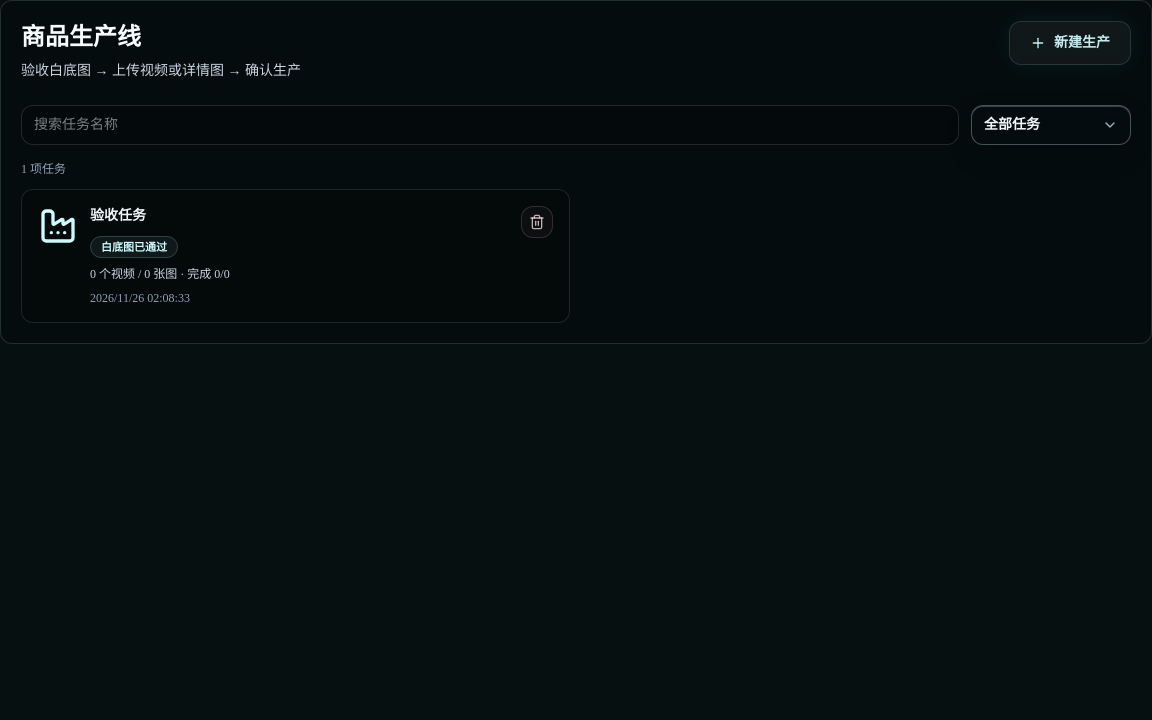
Test: production page interaction regression (simulated network only) › uses the shared confirmation dialog for task deletion instead of window.confirm
Later steps or results of the test are not shown.
Click the button named "删除任务 验收任务".
click(537, 222)  # box [521,206,553,238]
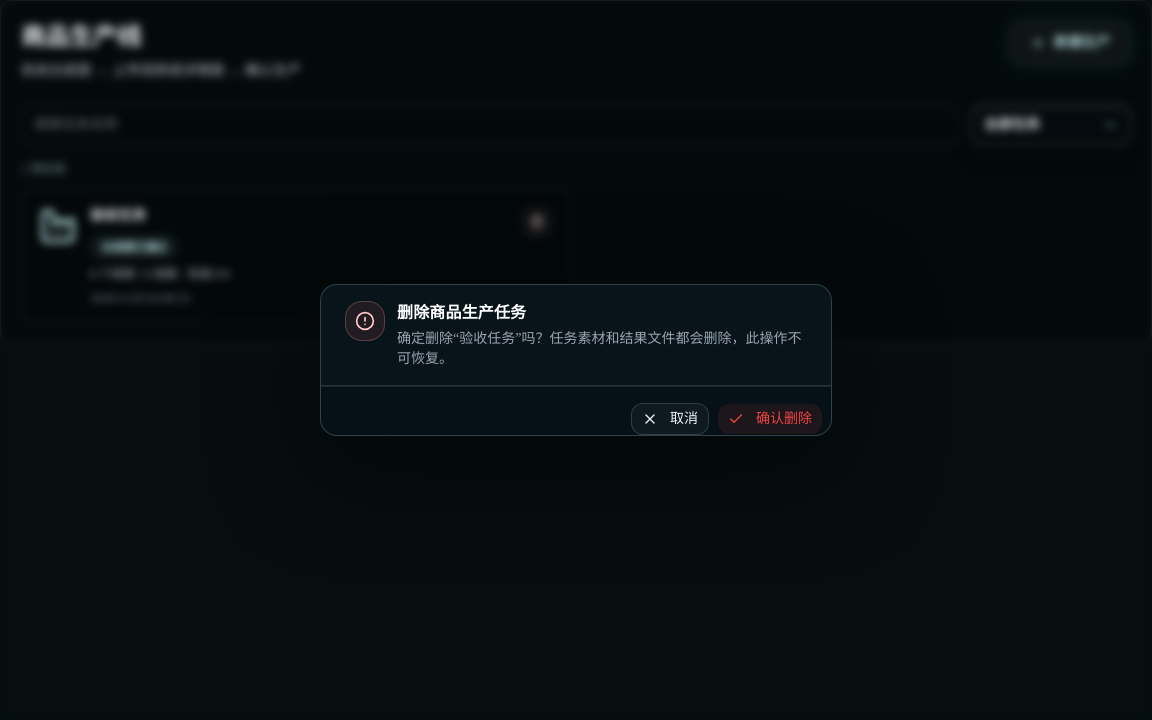
Result: the dialog shows "删除商品生产任务" at [397,304,526,321]
Click the button "取消".
click(670, 419)  # box [631,403,709,435]
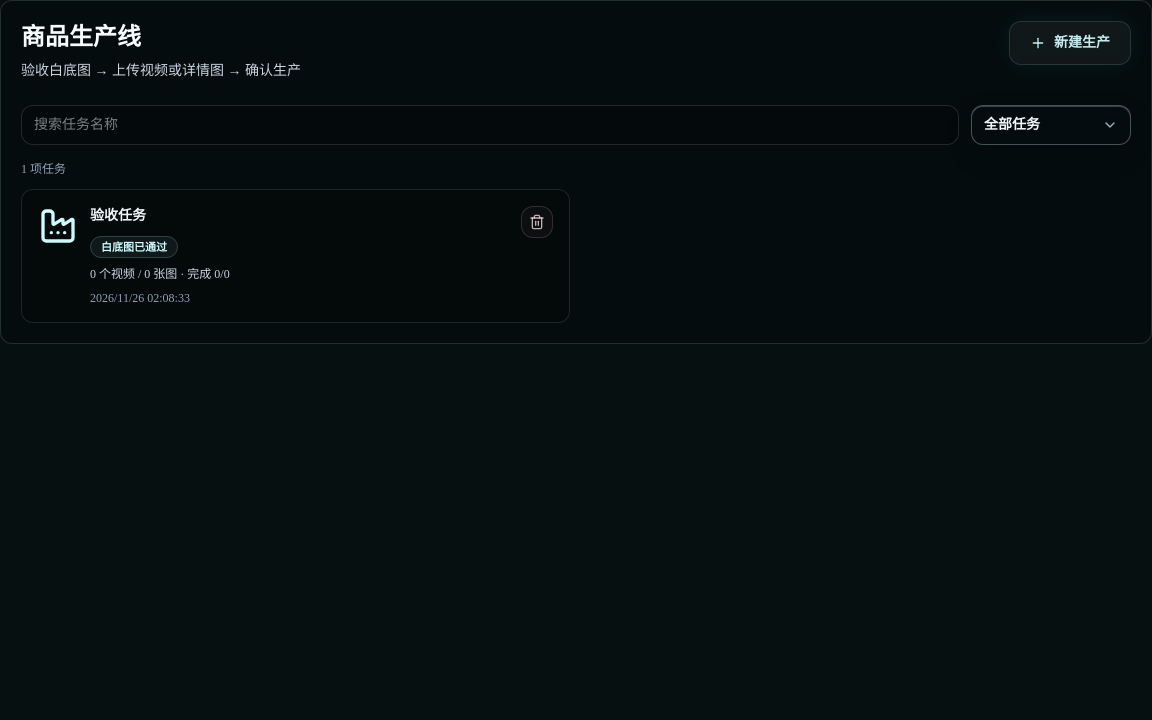
Result: the dialog is gone
